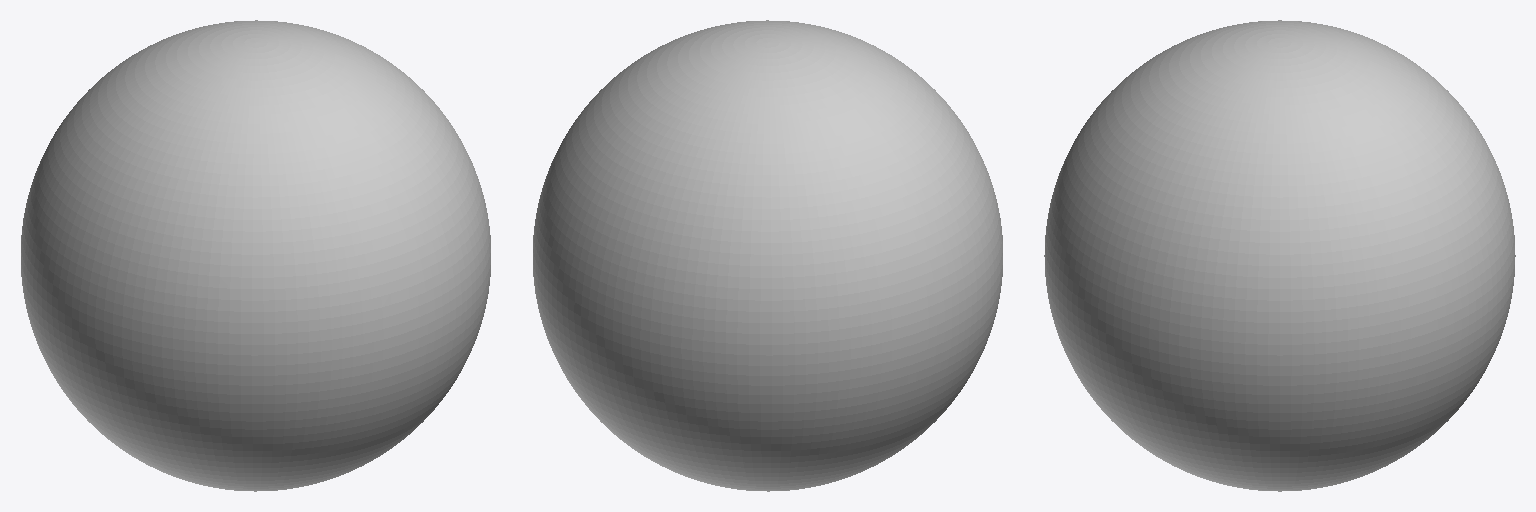
Rendered from sun.obj.
The picture shows the model from 3 angles: view 1: azimuth 30°, elevation 25°; view 2: azimuth 150°, elevation 25°; view 3: azimuth 270°, elevation 25°; orthographic projection.
Parts seen in each view (by area): view 1: sun_sphere; view 2: sun_sphere; view 3: sun_sphere.
Boxes of the visible parts, box(x1,y1,x2,y2) form: sun_sphere: box(21, 20, 490, 491); sun_sphere: box(533, 20, 1002, 491); sun_sphere: box(1044, 20, 1515, 491).
Size of the model in its own units: 2 by 2 by 2.